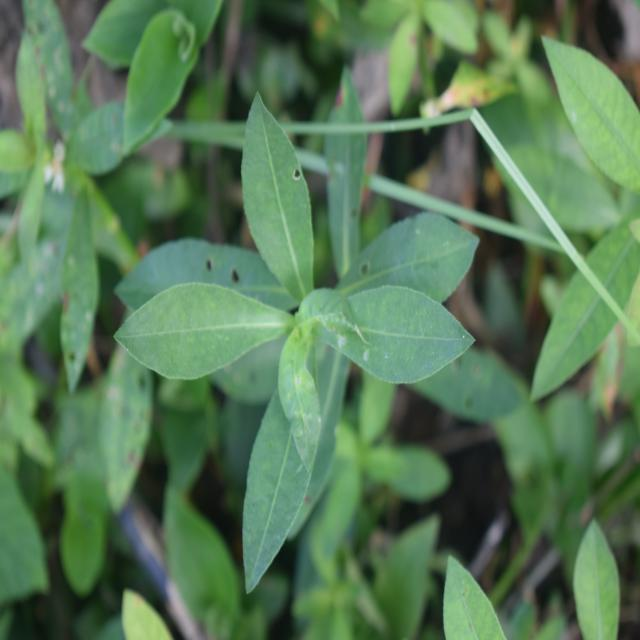Alligatorweed: (151, 113, 476, 561)
